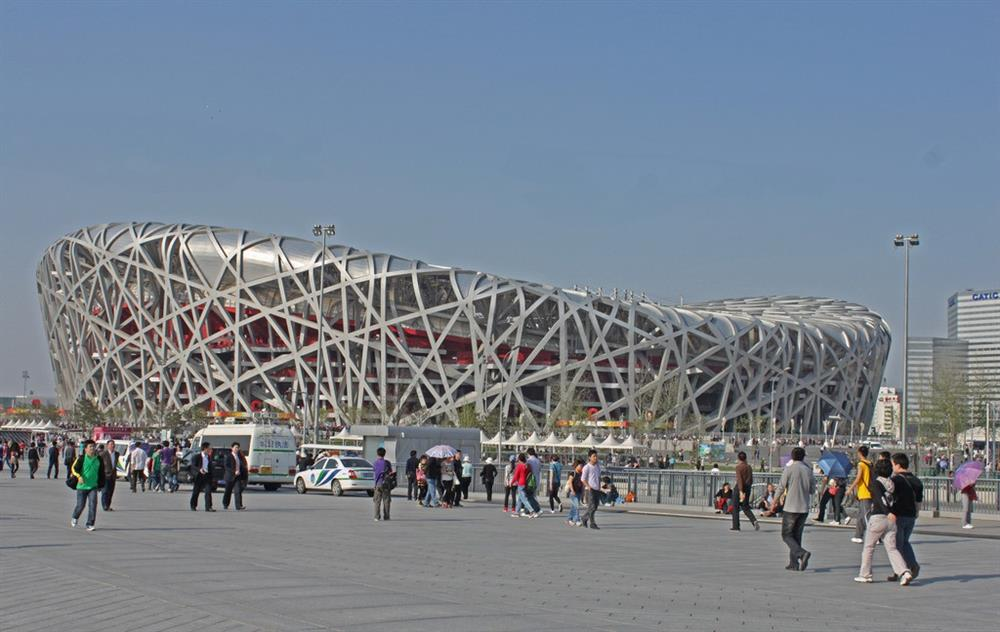National_Stadium: (33, 201, 890, 441)
